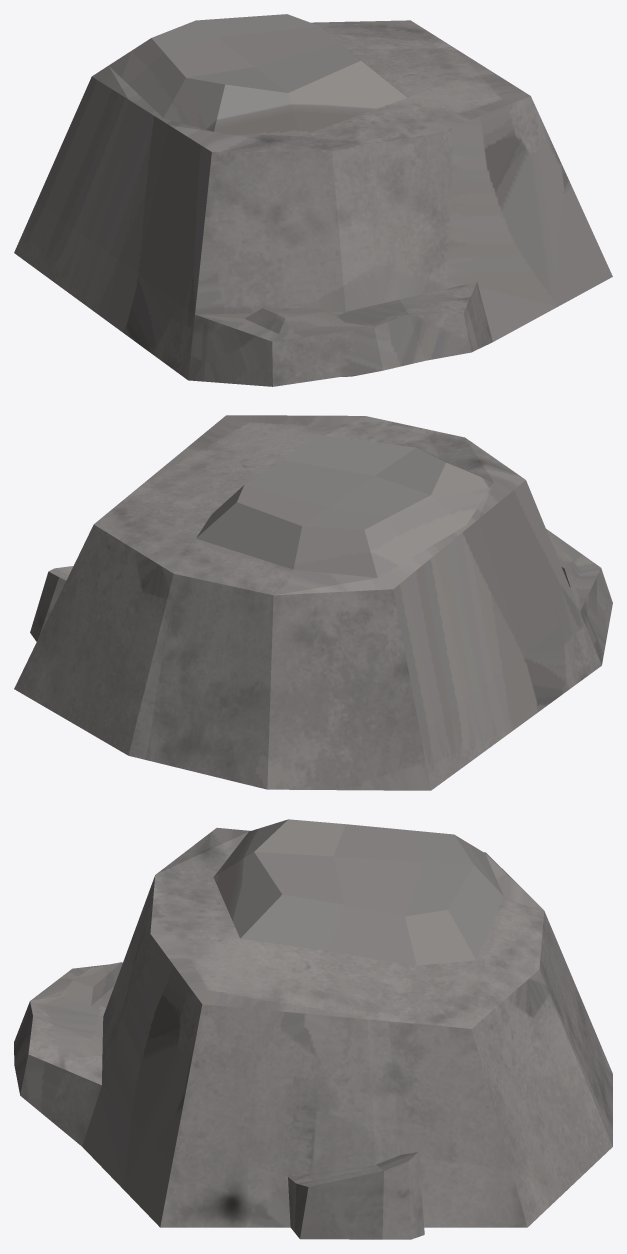
File: petite pierre 1.fbx
The picture shows the model from 3 angles, top to bottom: view 1: azimuth 30°, elevation 25°; view 2: azimuth 150°, elevation 25°; view 3: azimuth 270°, elevation 25°; orthographic projection. The views are drawn at different scales.
Parts seen in each view (by area): view 1: Cube.005; view 2: Cube.005; view 3: Cube.005.
Part boxes in pixels (<box>): Cube.005: <box>14,14,612,386</box>; Cube.005: <box>14,415,612,790</box>; Cube.005: <box>14,819,612,1239</box>.
Size of the model in its own units: 47.31 by 22.18 by 50.17.
